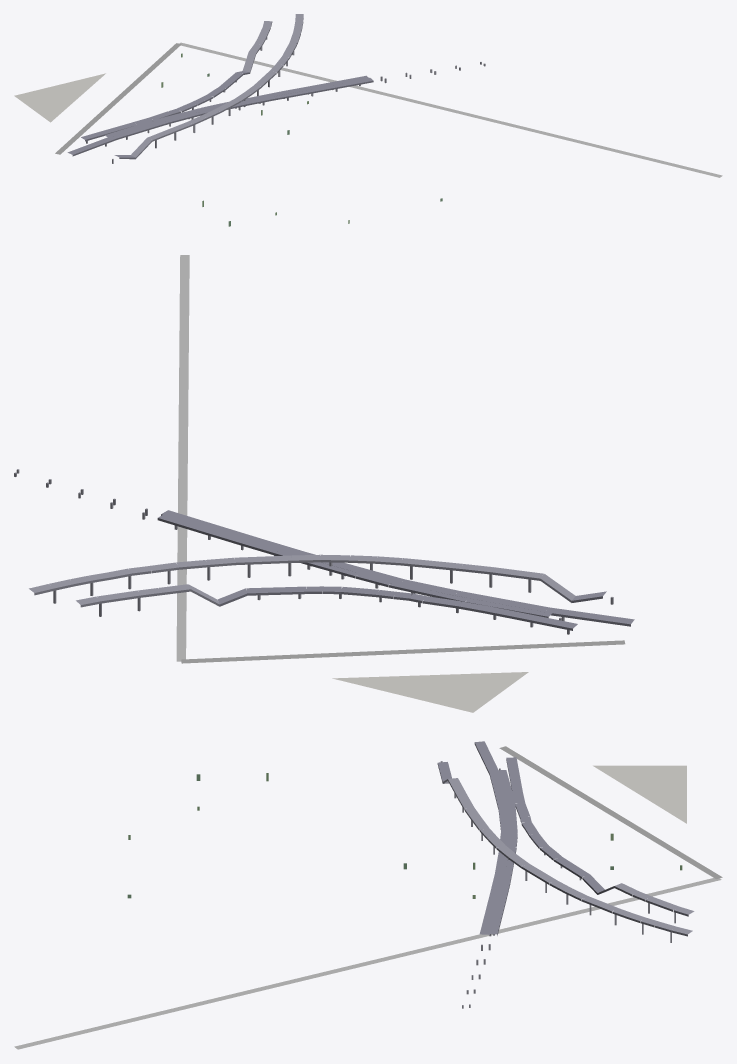
The picture shows the model from 3 angles, top to bottom: view 1: azimuth 30°, elevation 25°; view 2: azimuth 150°, elevation 25°; view 3: azimuth 270°, elevation 25°; orthographic projection. The views are drawn at different scales.
Bounding box in the file's own units: 623 × 17.25 × 617.
